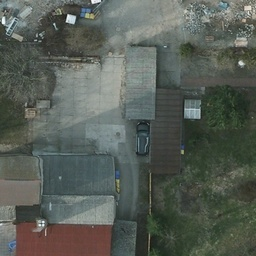car: (133, 121, 149, 157)
